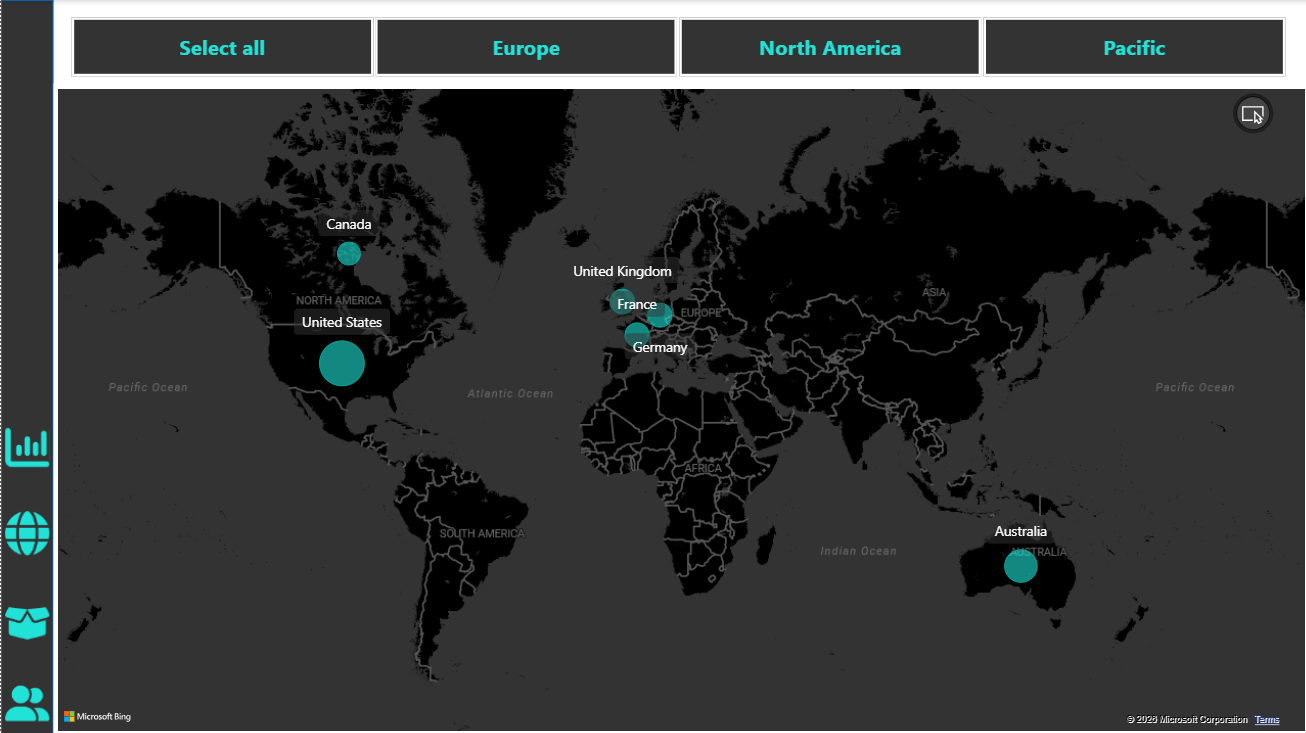

The page's visual inventory and layout, read from the dashboard file:
{"tool":"powerbi","page":{"name":"Map","canvas":[1280,720],"ordinal":1},"visuals":[{"type":"group","id":"g1","title":"Group 1","box":[0,0,51.4,720],"z":0,"group":"g3"},{"type":"slicer","fields":{"Values":["Territory Lookup.Continent"]},"box":[42.8,9.8,1237.5,72.1],"z":0},{"type":"actionButton","box":[0,409.2,51.4,56.1],"z":0,"group":"g2"},{"type":"group","id":"g2","title":"Group 2","box":[0,409.2,51.4,307.1],"z":5,"group":"g3"},{"type":"group","id":"g3","title":"Group 3","box":[0,0,51.4,720],"z":1000},{"type":"actionButton","box":[0,491.8,51.4,57.8],"z":1000,"group":"g2"},{"type":"map","fields":{"Category":["Territory Lookup.Country"],"Size":["Measure Table.Total Customers"]},"box":[51.4,81.9,1228.9,638.3],"z":2000},{"type":"actionButton","box":[0,580.9,51.4,57.8],"z":2000,"group":"g2"},{"type":"actionButton","box":[0,658.5,51.4,57.8],"z":3000,"group":"g2"},{"type":"shape","box":[0,0,51.4,720.2],"z":4000,"group":"g1"}]}

Visuals, with their boxes in screenshot pixels (x1, y1, x2, y2):
"Group 1" group: <bbox>0, 3, 52, 728</bbox>
slicer - Territory Lookup.Continent: <bbox>43, 13, 1288, 86</bbox>
actionButton: <bbox>0, 415, 52, 472</bbox>
"Group 2" group: <bbox>0, 415, 52, 724</bbox>
"Group 3" group: <bbox>0, 3, 52, 728</bbox>
actionButton: <bbox>0, 498, 52, 556</bbox>
map - Territory Lookup.Country x Measure Table.Total Customers: <bbox>52, 86, 1288, 728</bbox>
actionButton: <bbox>0, 588, 52, 646</bbox>
actionButton: <bbox>0, 666, 52, 724</bbox>
shape: <bbox>0, 3, 52, 728</bbox>
